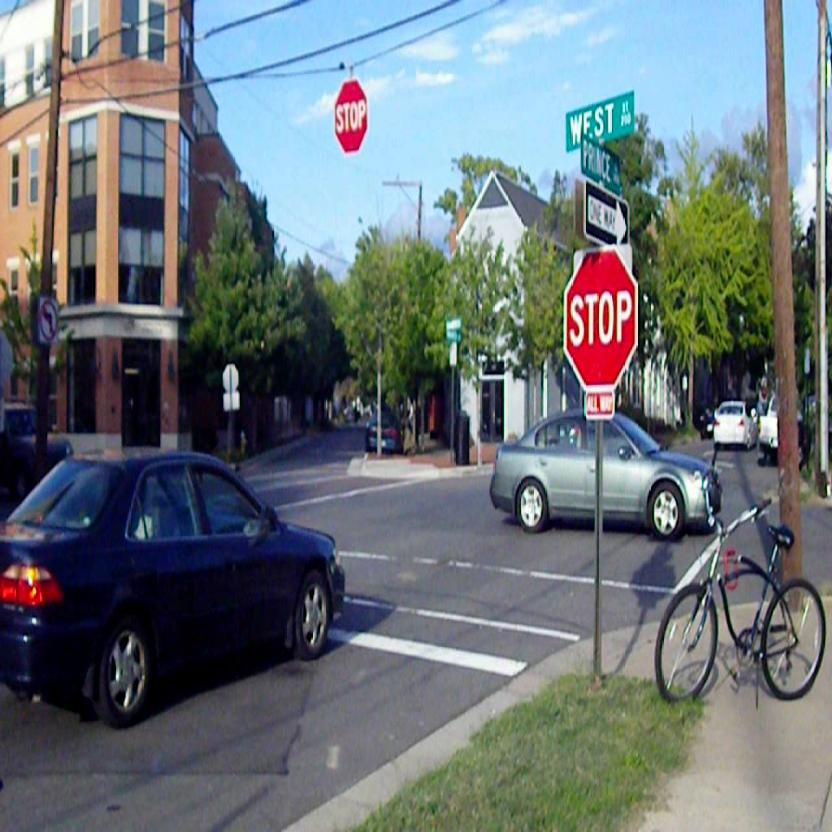Pole: (594, 422, 602, 666), (449, 370, 455, 464), (228, 412, 234, 466)
Sign: (564, 252, 638, 392), (332, 81, 369, 154), (222, 366, 238, 392)
